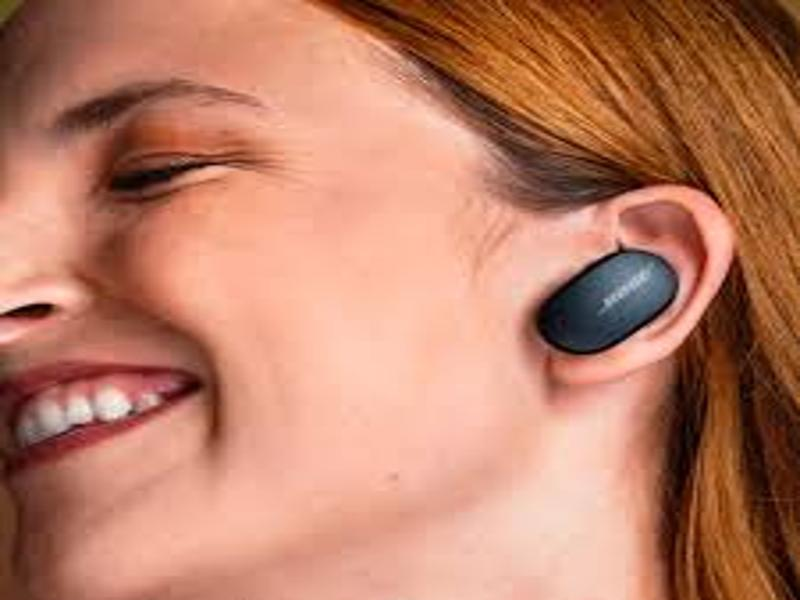headphone: (532, 246, 680, 356)
